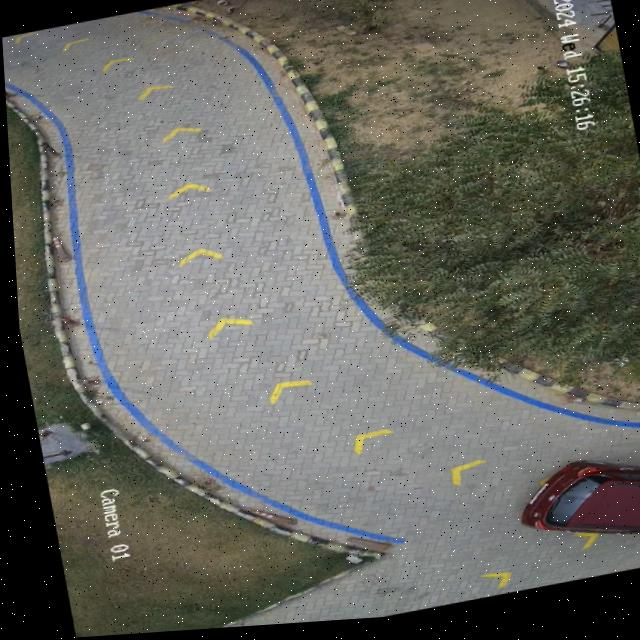car: (514, 470, 640, 544)
